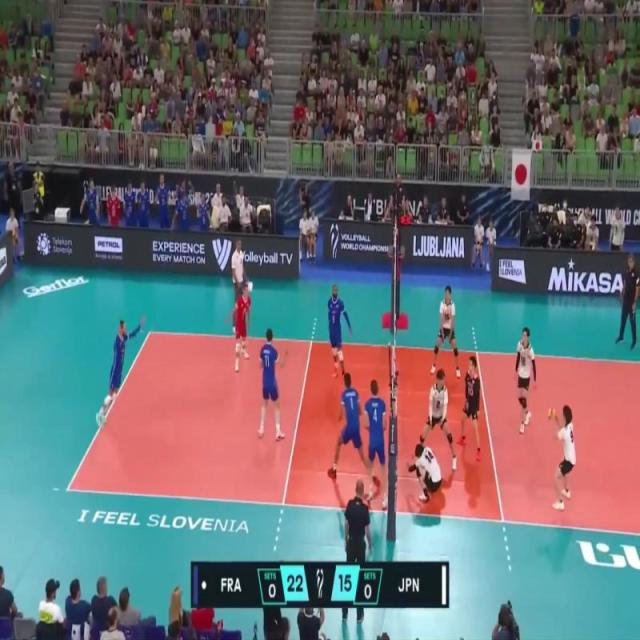volleyball: (546, 404, 557, 422)
